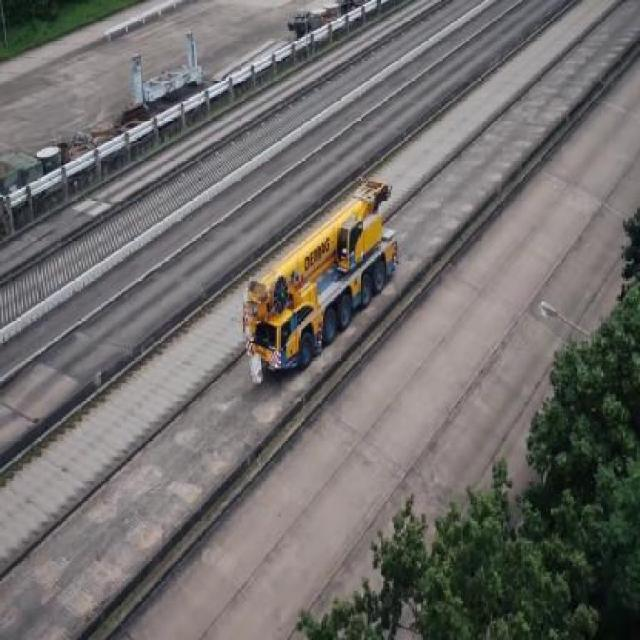Mobile Crane: (241, 182, 397, 376)
